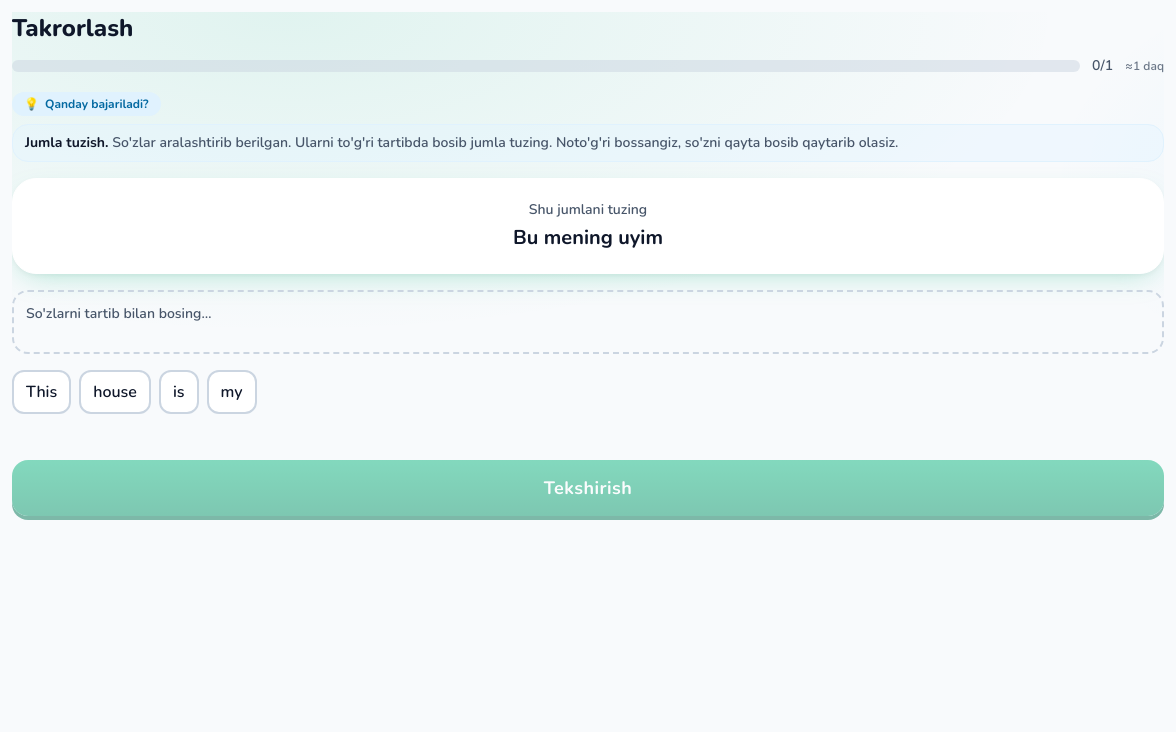
it: ReviewScreen — jumla qurish mashqi › xato tartibda tuzilgan jumla xato hisoblanadi
Check: the text "Shu jumlani tuzing" is shown, box top-left (529, 200), bottom-right (647, 220)
Click the button "house". click: (115, 392)
box: top-left (79, 370), bottom-right (151, 414)
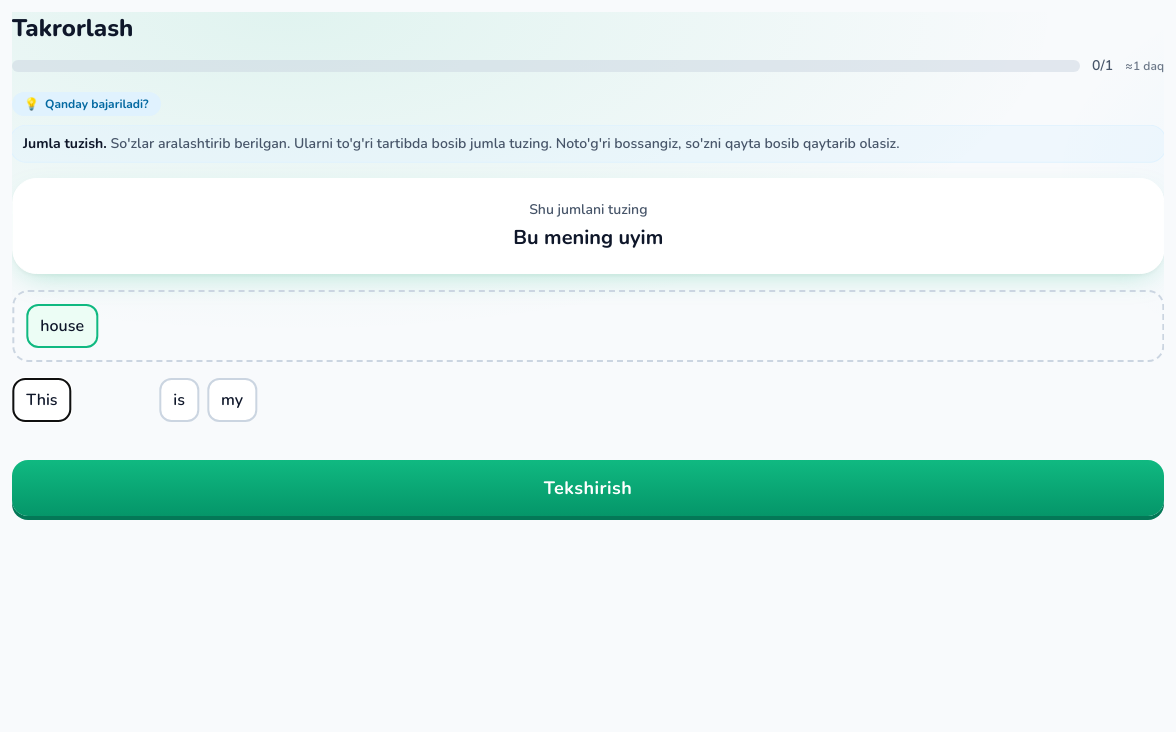
Click the button "my". click: (232, 400)
box: top-left (207, 378), bottom-right (257, 422)
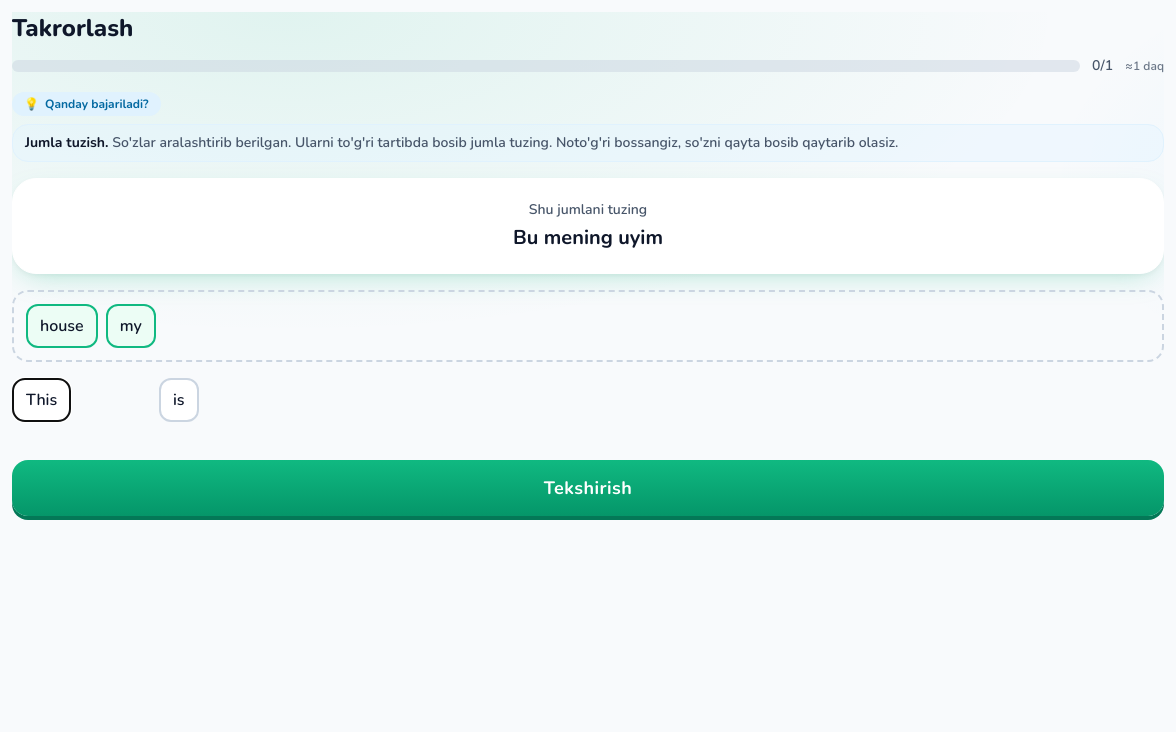
Click the button "is". click: (179, 400)
box: top-left (159, 378), bottom-right (199, 422)
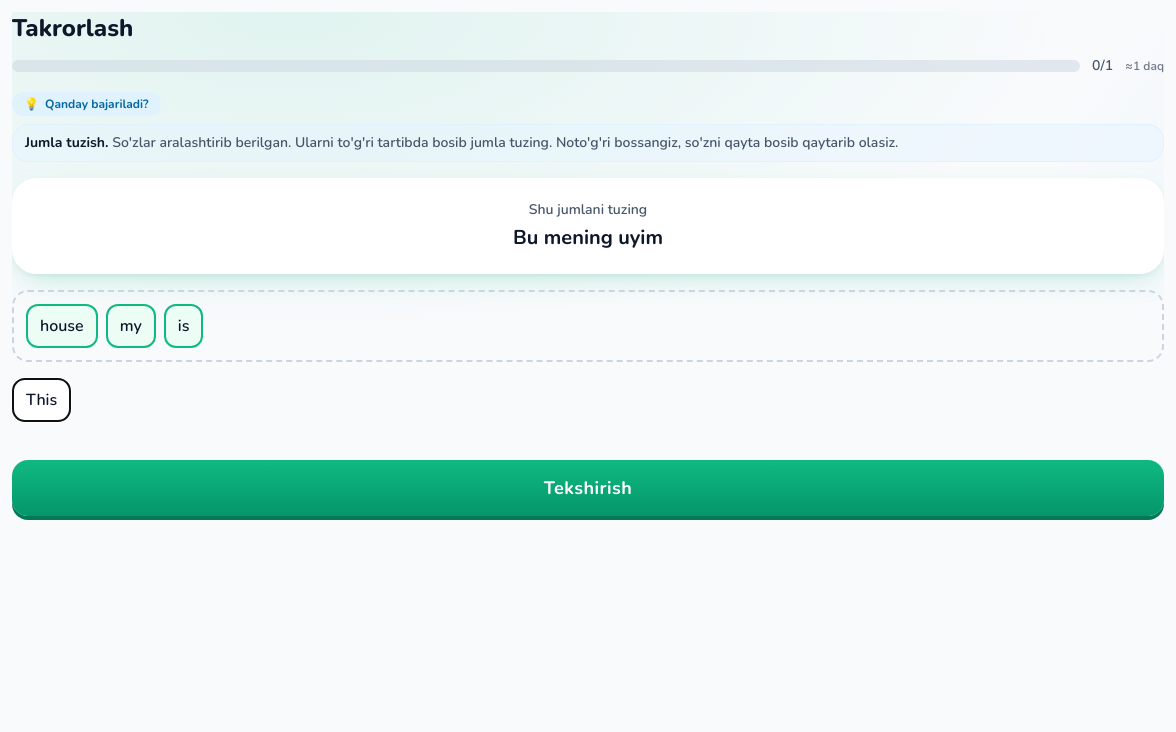
Click the button "This". click: (42, 400)
box: top-left (12, 378), bottom-right (71, 422)
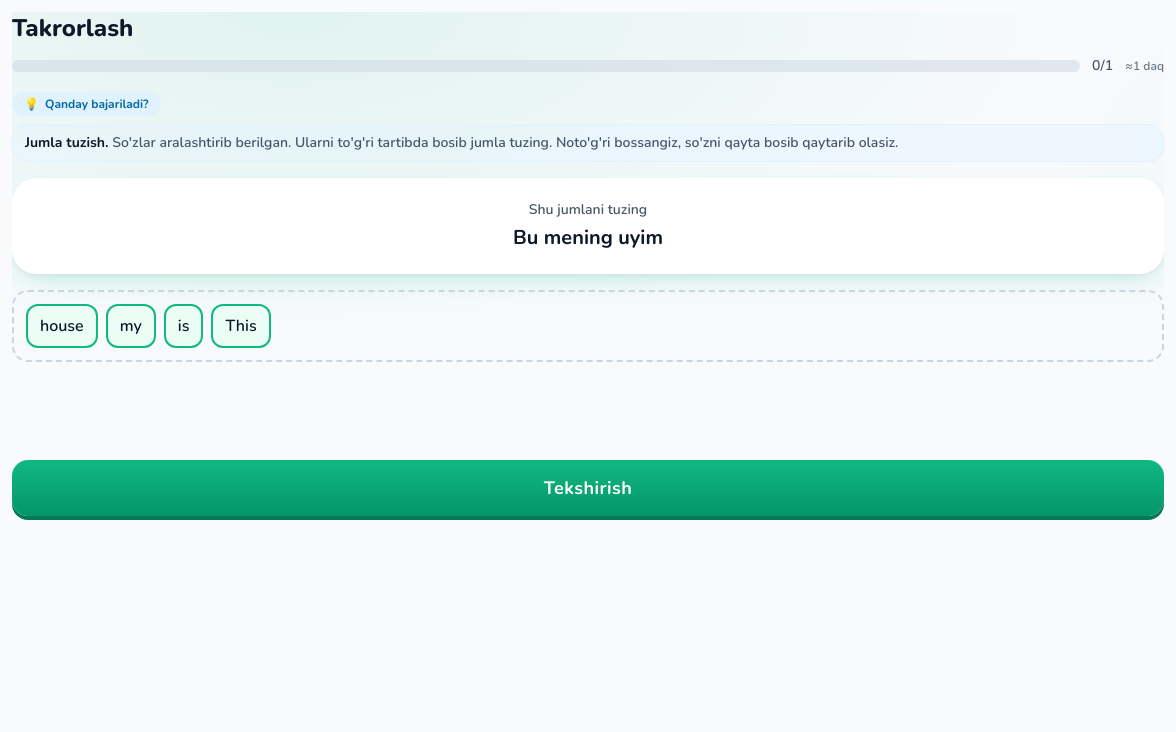
Click the button "Tekshirish". click: (588, 488)
box: top-left (12, 460), bottom-right (1164, 516)
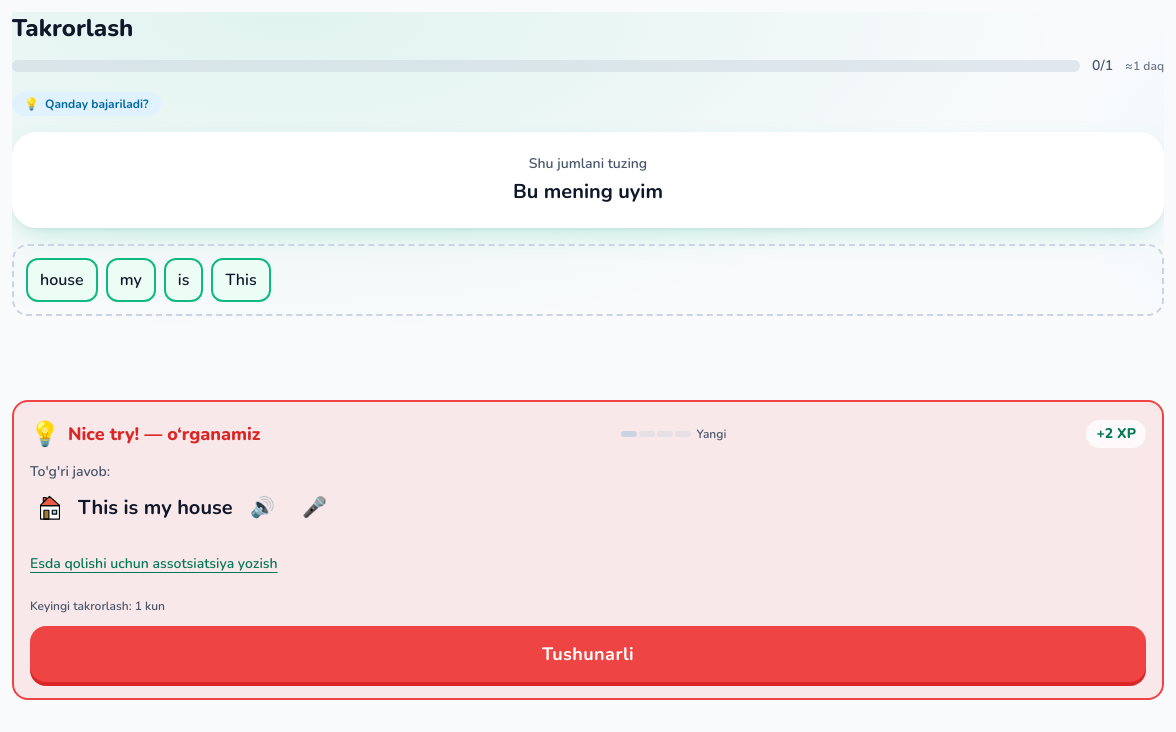
Check: the text "Nice try! — o‘rganamiz" is shown, box top-left (68, 420), bottom-right (260, 448)
Check: the text with test id "correct-answer" reads "This is my house", box top-left (78, 494), bottom-right (233, 521)
